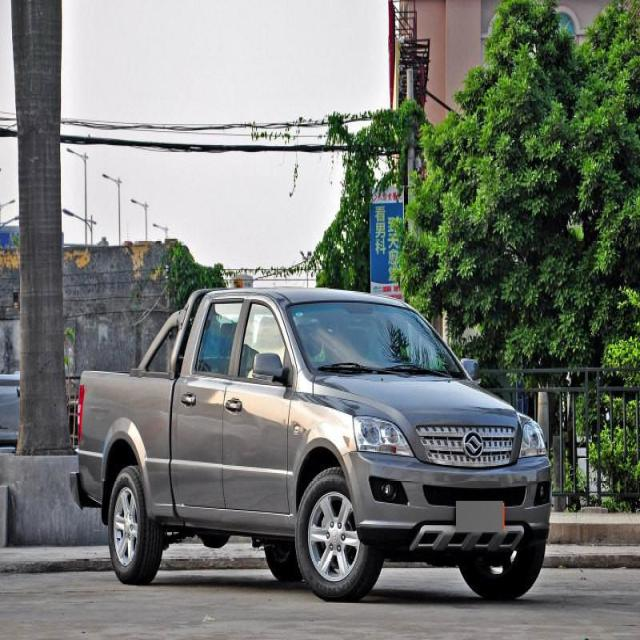back_right_side_light: (76, 382, 86, 448)
door: (172, 303, 252, 521)
front_bumper: (334, 450, 554, 547)
front_glass: (286, 300, 470, 380)
front_left_side_light: (518, 420, 547, 461)
front_left_side_mirror: (461, 357, 482, 383)
front_right_side_door: (219, 292, 301, 518)
front_right_side_light: (351, 413, 417, 459)
front_right_side_mirror: (252, 351, 289, 384)
wheel: (294, 468, 388, 606), (450, 530, 556, 604), (106, 459, 162, 589)
